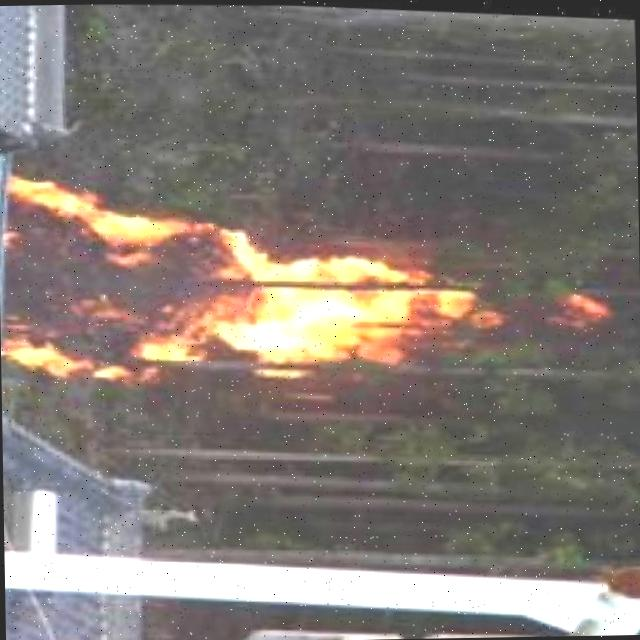fire: (0, 159, 500, 417)
